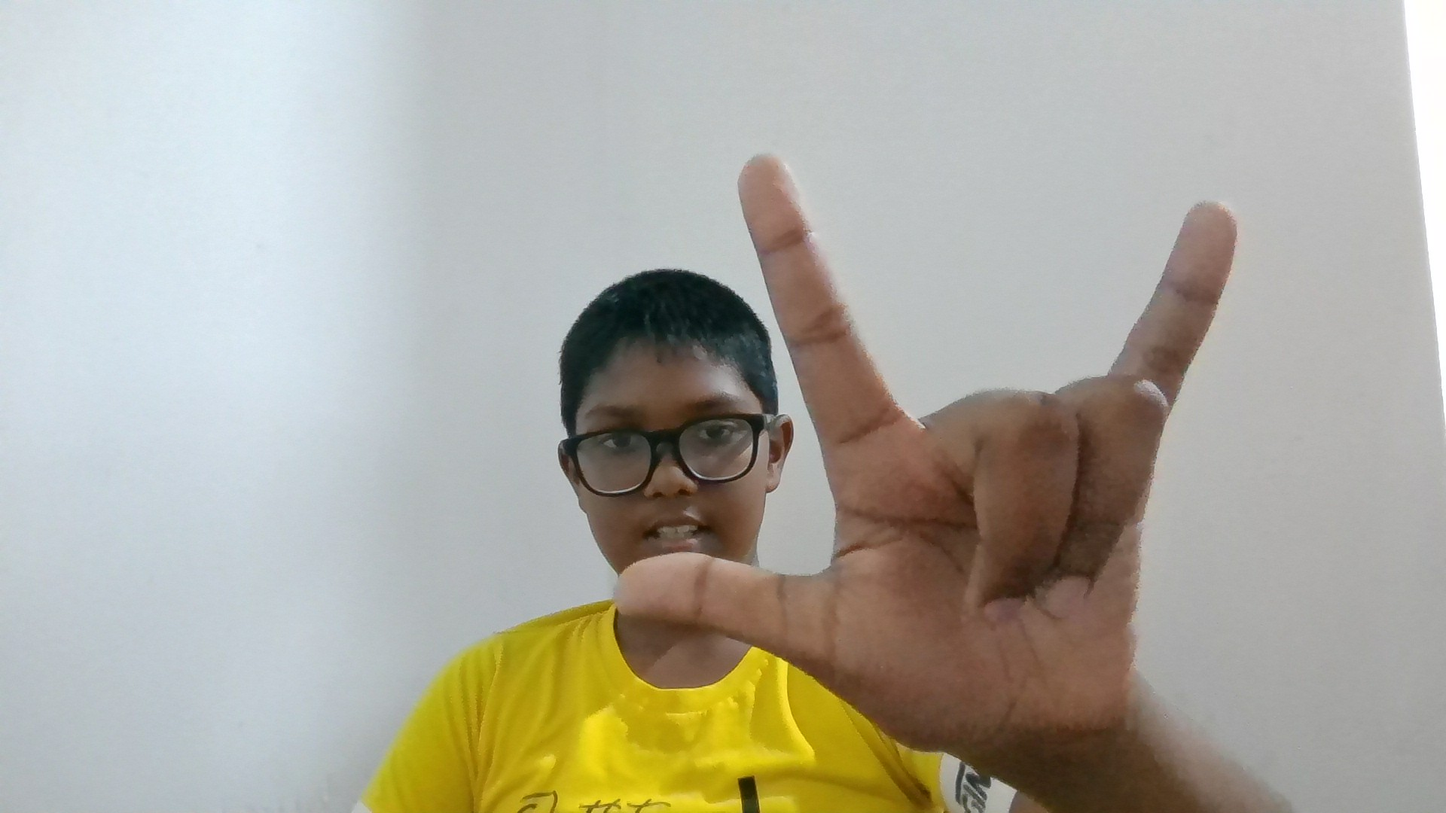I Love You: (593, 114, 1219, 732)
